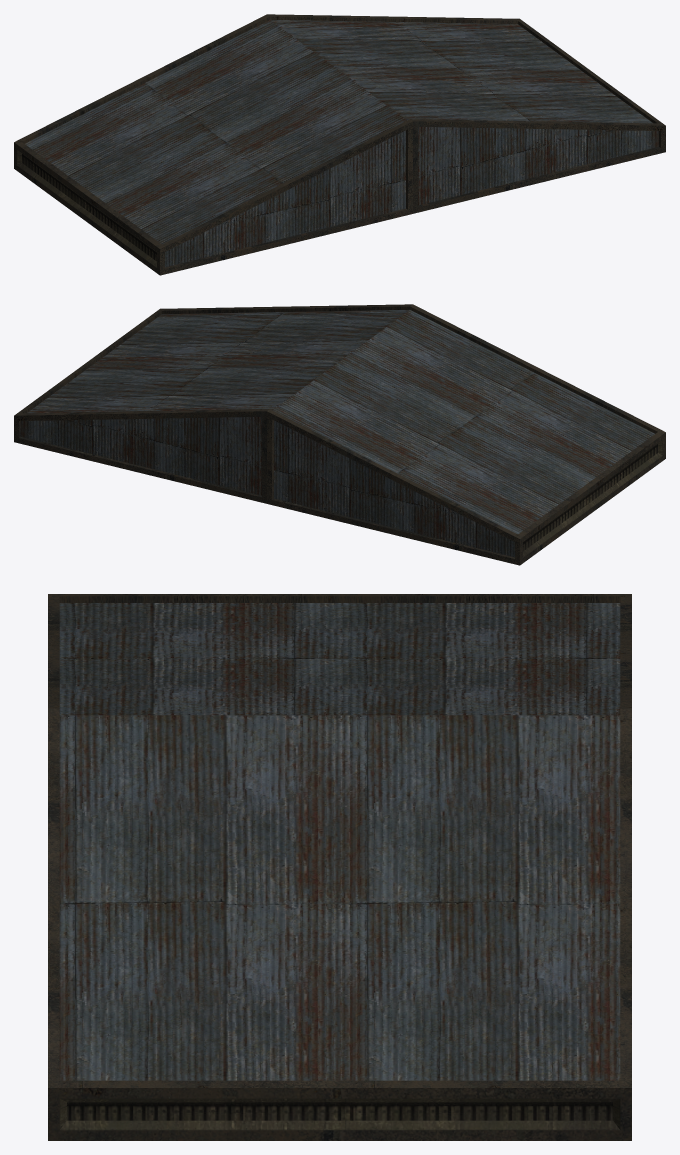
File: roof_mh_3.dae
3 renders of one model, top to bottom at view 1: azimuth 30°, elevation 25°; view 2: azimuth 150°, elevation 25°; view 3: azimuth 270°, elevation 25°, orthographic. The views are drawn at different scales.
Visible parts, largest first — view 1: roof_mh_3; view 2: roof_mh_3; view 3: roof_mh_3.
Part boxes in pixels (x1,y1,x2,y2): roof_mh_3: (14,14,665,275); roof_mh_3: (14,304,665,565); roof_mh_3: (48,594,631,1140).
Bounding box in the file's own units: 8 × 4 × 1.4.
6 materials, 6 textured.
